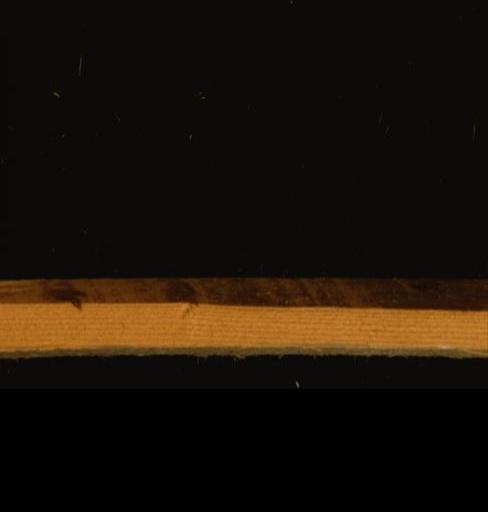wave: (0, 272, 485, 311), (3, 337, 486, 365)
